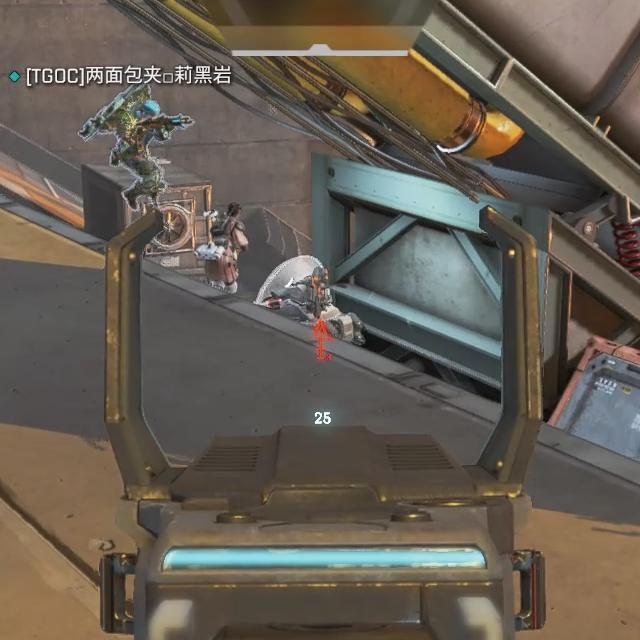avatar: (108, 96, 166, 212), (201, 200, 251, 294)
